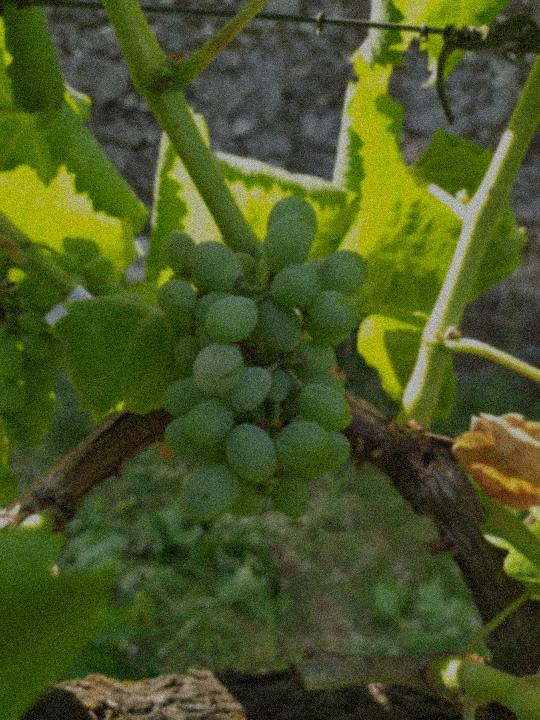grape: (156, 192, 373, 525)
